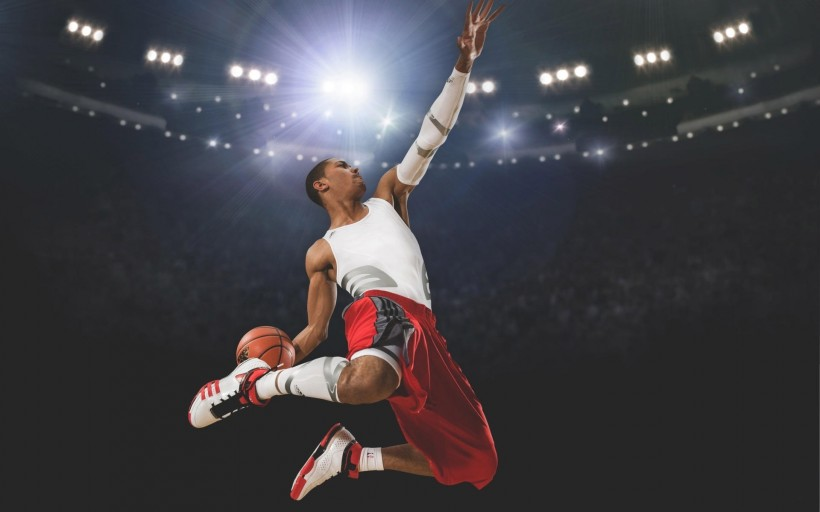ball: (233, 324, 297, 382)
